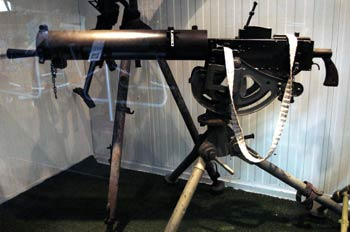rifle: (4, 12, 344, 222)
